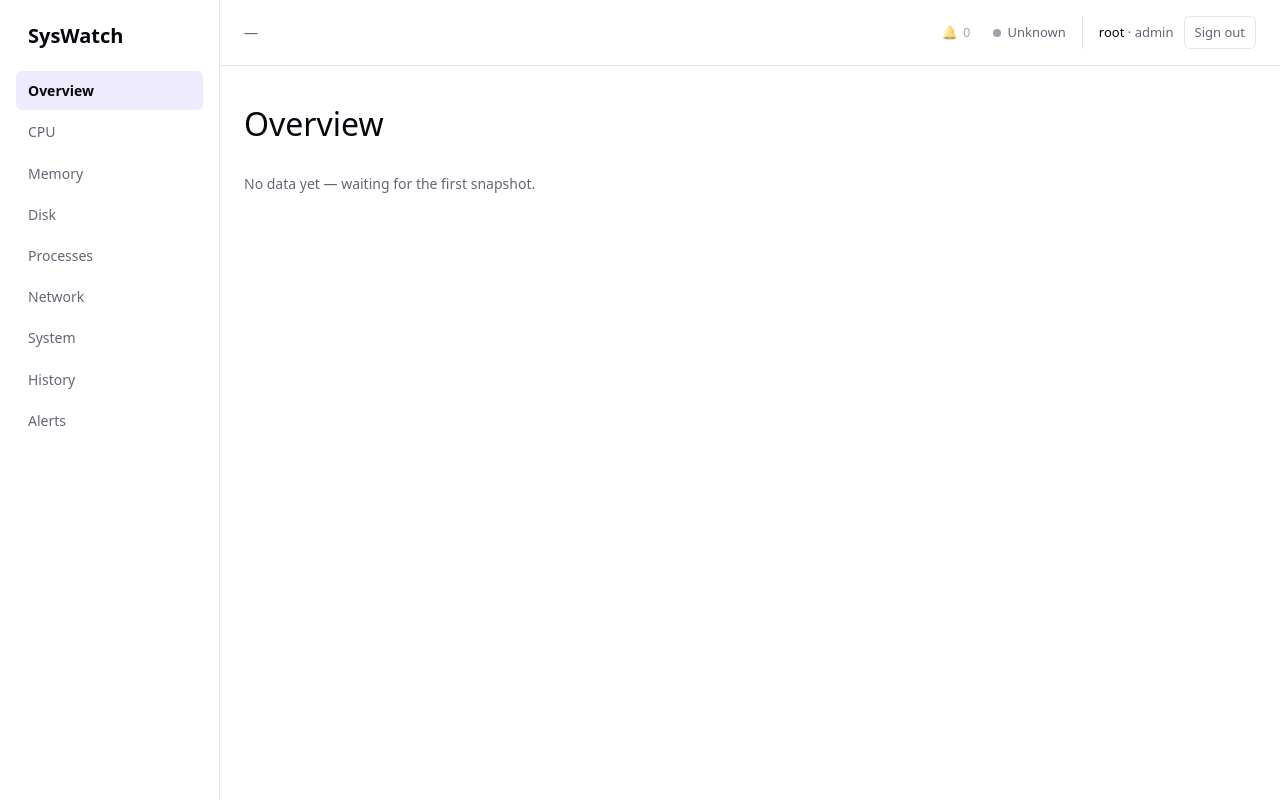
Scenario: session lifecycle › signs out on request
Check: the heading "Overview" is shown, box left=244, top=102, right=384, bottom=145
Click the button "Sign out" at (1220, 33), box left=1184, top=16, right=1256, bottom=49
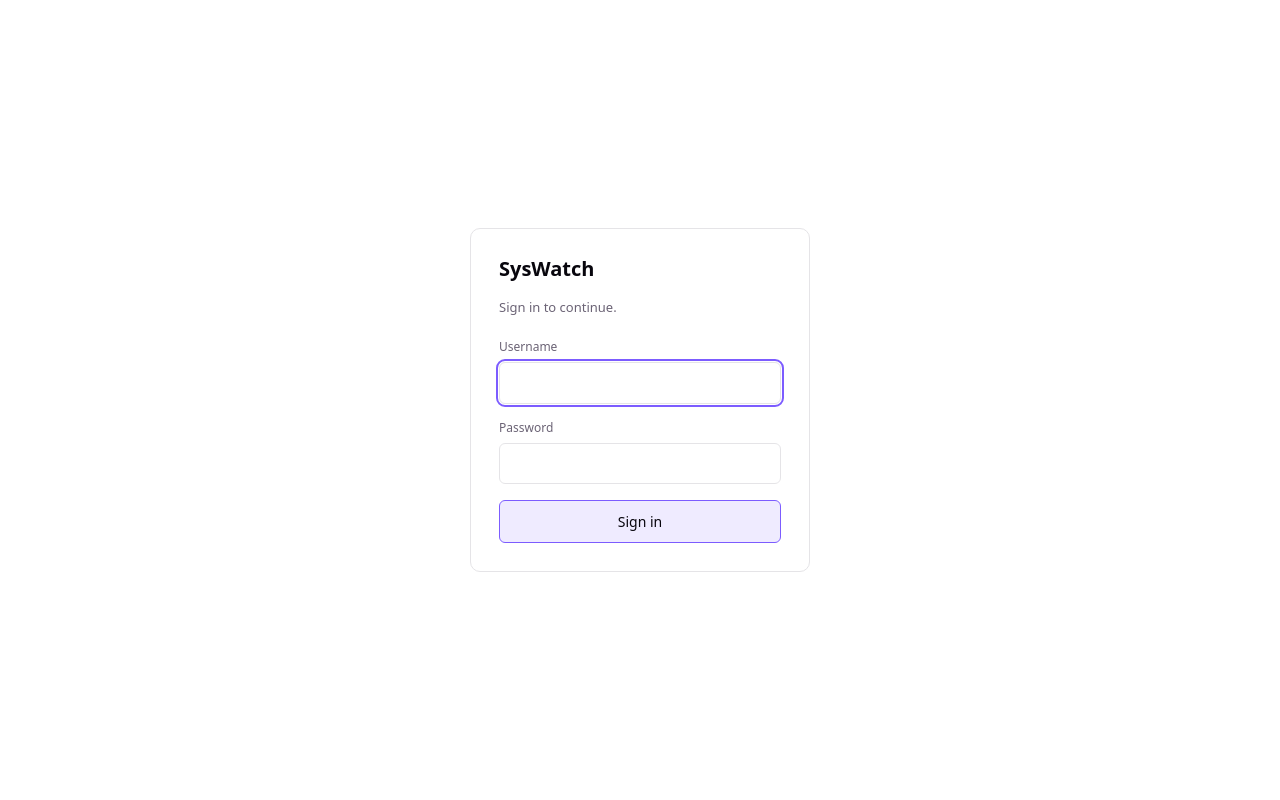
Check: the button "Sign in" is shown, box left=499, top=500, right=781, bottom=543
